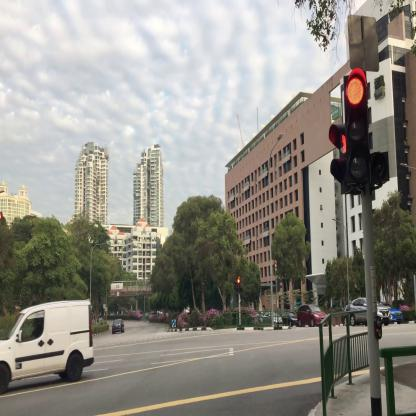red_traffic_light: (344, 76, 372, 180), (237, 277, 240, 293)
